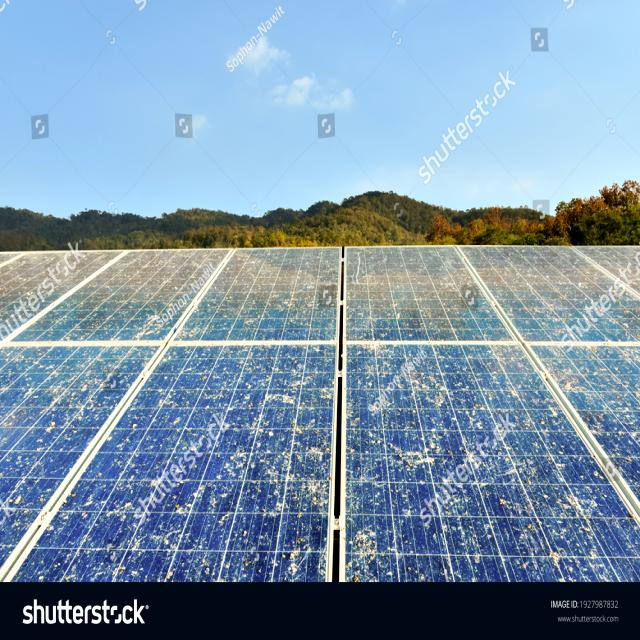bird: (432, 492, 503, 566), (41, 366, 114, 418), (288, 427, 326, 522), (274, 362, 334, 410), (5, 452, 50, 516), (489, 361, 534, 420), (82, 539, 142, 582), (157, 482, 212, 526), (532, 500, 570, 562), (82, 481, 138, 522), (388, 426, 429, 478), (407, 366, 460, 406), (552, 352, 596, 399), (352, 521, 386, 581), (150, 377, 196, 420), (216, 358, 256, 401), (354, 352, 388, 400)
